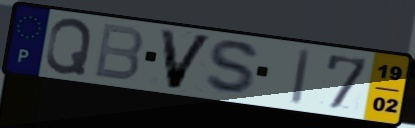7: (322, 52, 371, 110)
B: (92, 21, 146, 83)
I: (288, 47, 313, 108)
Q: (42, 16, 95, 77)
S: (203, 38, 264, 98)
V: (157, 27, 216, 92)
